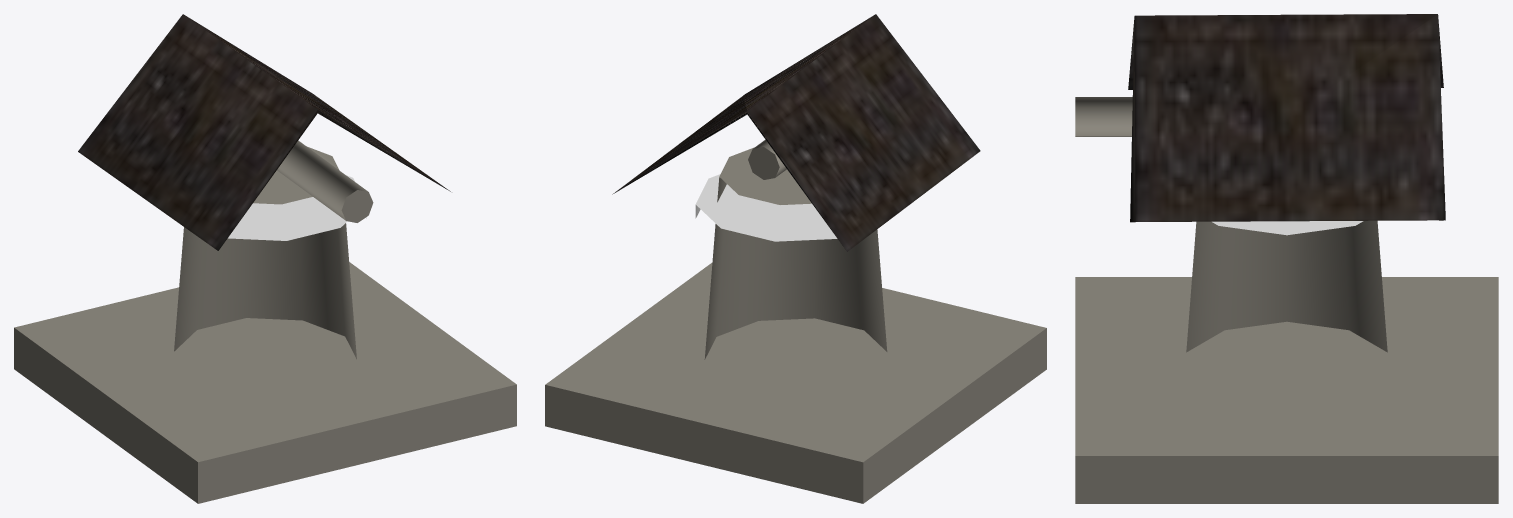
3 views of the same model, side by side, from view 1: azimuth 30°, elevation 25°; view 2: azimuth 150°, elevation 25°; view 3: azimuth 270°, elevation 25° (orthographic). The views are drawn at different scales.
Visible parts, largest first — view 1: dweller_building_turret; view 2: dweller_building_turret; view 3: dweller_building_turret.
Part boxes in pixels (bbox=[...]): dweller_building_turret: bbox=[14, 14, 516, 503]; dweller_building_turret: bbox=[545, 14, 1046, 503]; dweller_building_turret: bbox=[1075, 14, 1498, 503].
Bounding box in the file's own units: 2 × 2.04 × 2.
3 materials, 1 textured.
